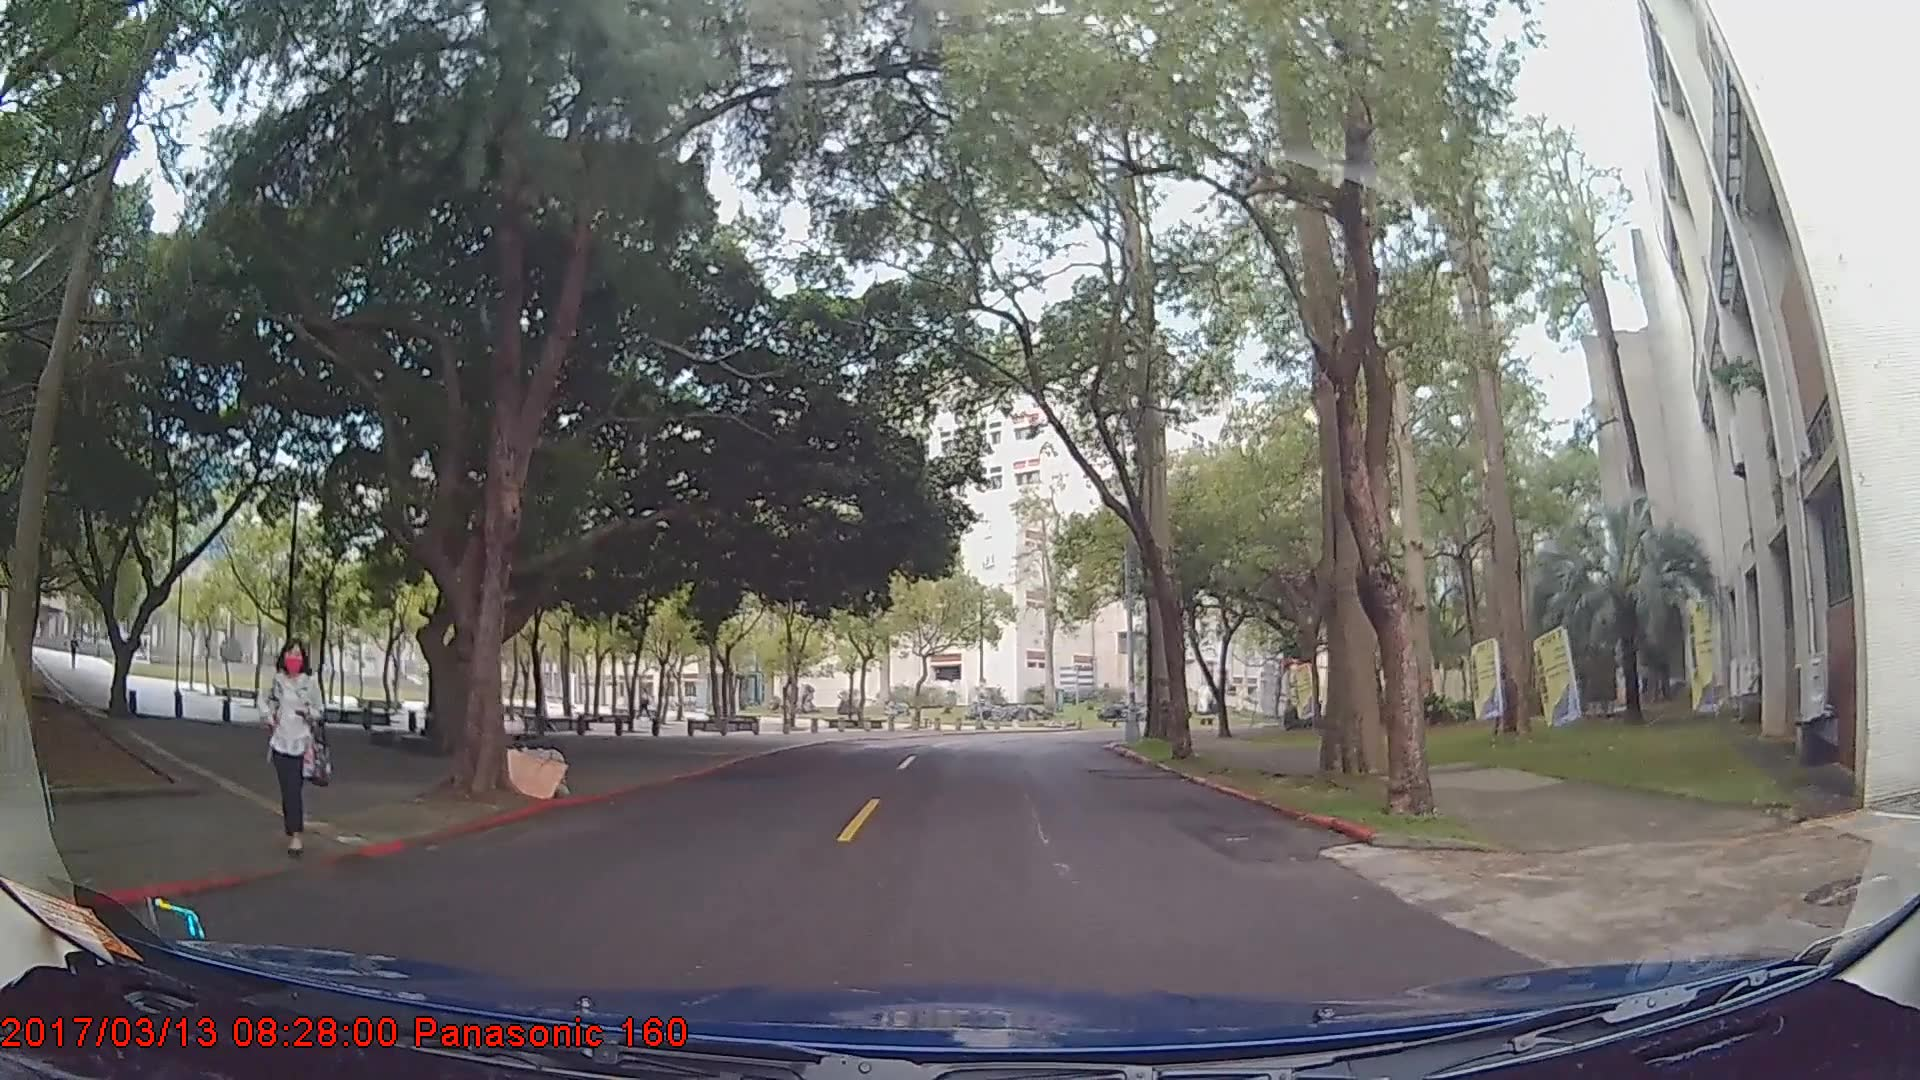pedestrian: (259, 636, 337, 858)
